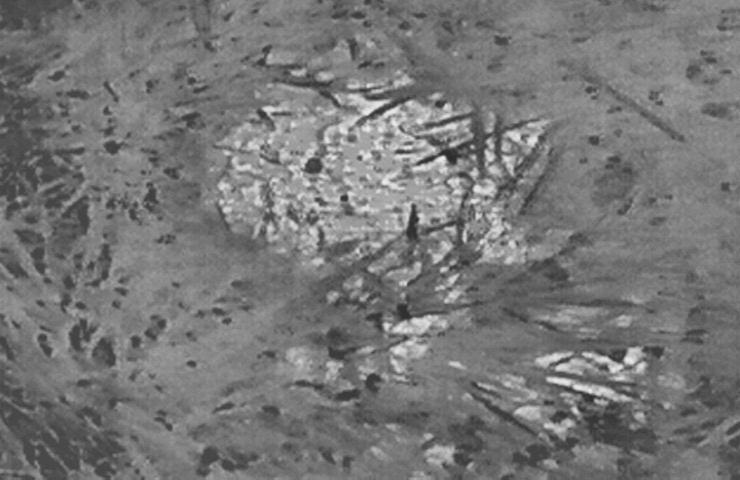landmines: (212, 47, 536, 312)
